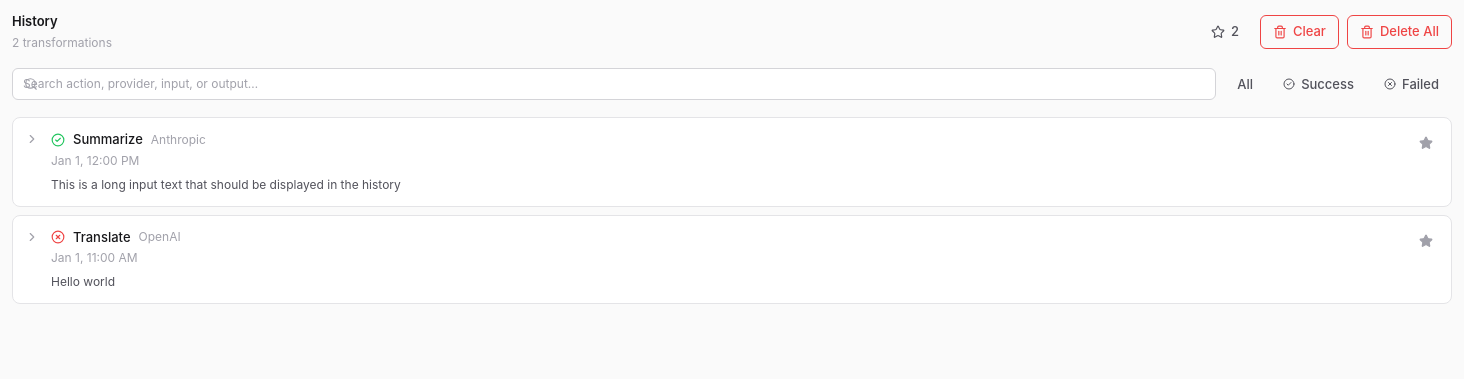
Test: HistoryList › shows plural clear message when multiple starred entries are preserved
Check: the text "Summarize" is shown, box [73,130,143,150]
Click the button "Clear": x=1299, y=32 [1260,15,1339,48]
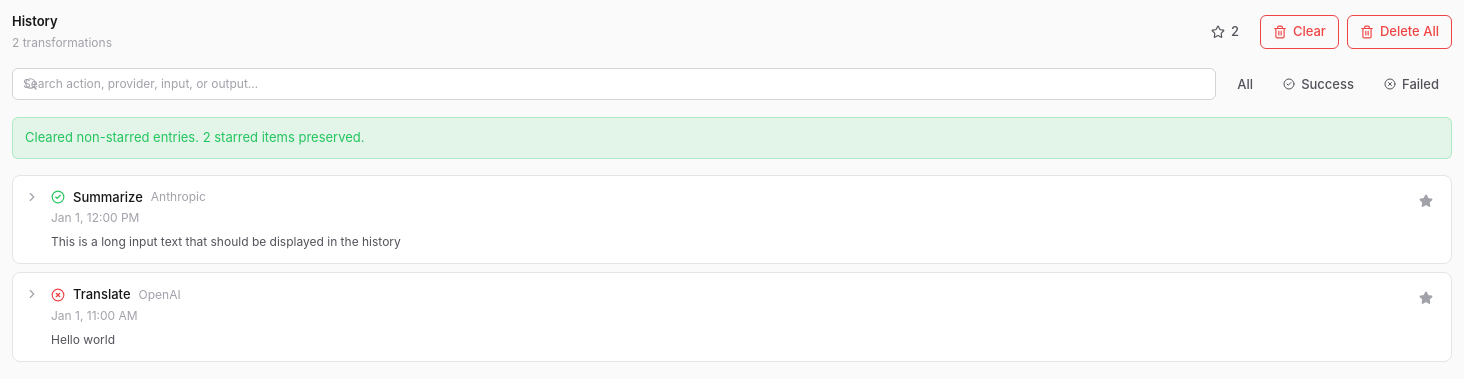
Check: the text "Cleared non-starred entries. 2 starred items preserved." is shown, box [12,117,1452,158]
